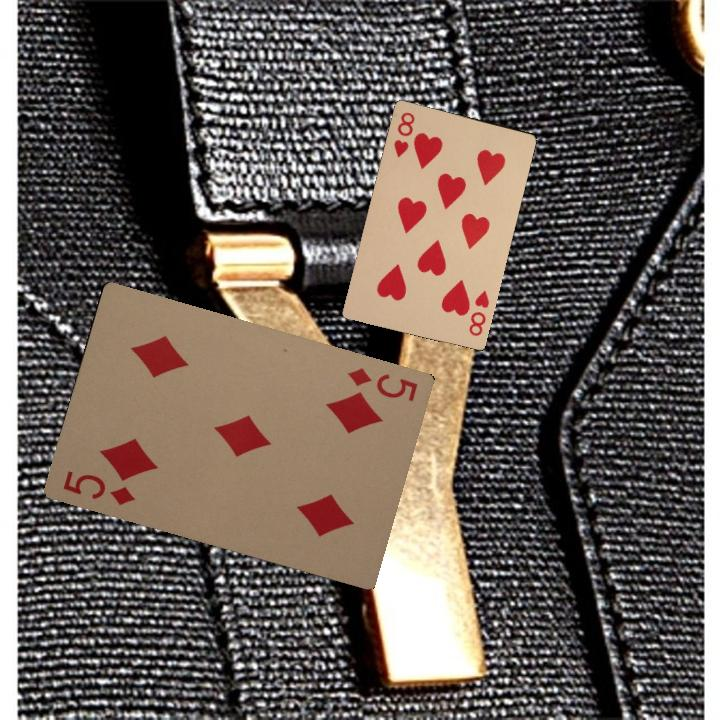5d: (59, 467, 137, 509), (344, 363, 421, 404)
8h: (390, 108, 417, 160), (465, 288, 492, 338)
